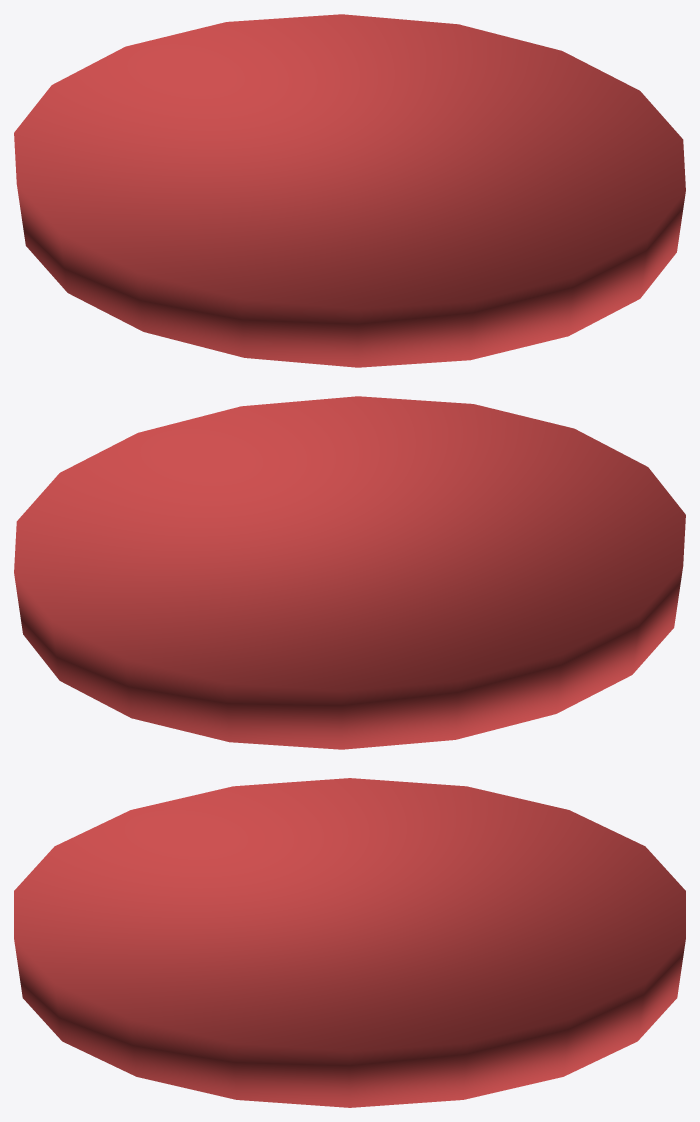
Rendered from anime_headband.glb.
3 renders of one model, top to bottom at view 1: azimuth 30°, elevation 25°; view 2: azimuth 150°, elevation 25°; view 3: azimuth 270°, elevation 25°, orthographic. The views are drawn at different scales.
Visible parts, largest first — view 1: band; view 2: band; view 3: band.
Boxes of the visible parts, x1=… form: band: x1=14, y1=14, x2=685, y2=367; band: x1=14, y1=396, x2=685, y2=749; band: x1=14, y1=778, x2=685, y2=1107.
Size of the model in its own units: 0.292 by 0.03 by 0.3033.
